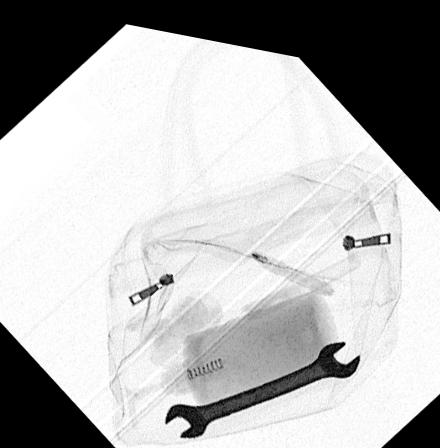Wrench: (164, 327, 363, 431)
